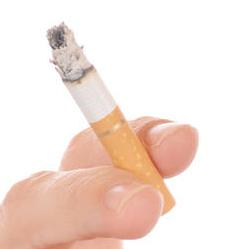smoke: (46, 20, 175, 218)
